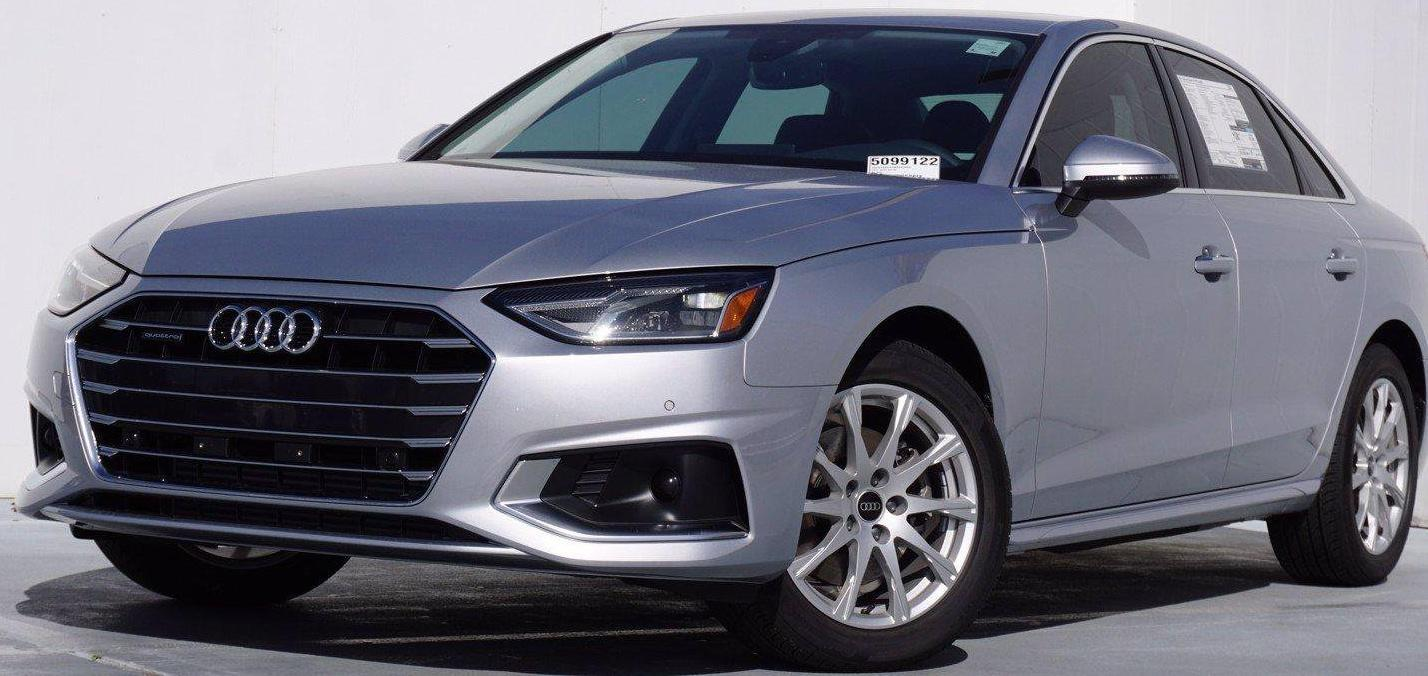Cars: (21, 15, 1428, 670)
